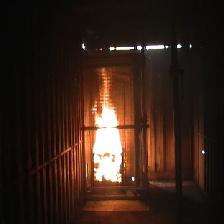fire: (84, 77, 128, 191)
